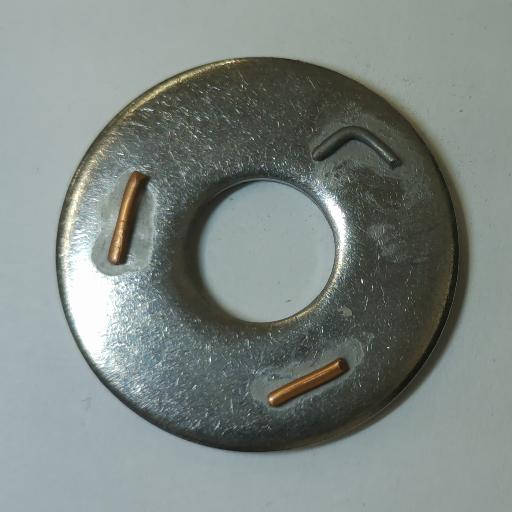excess_material: (268, 358, 349, 406), (311, 126, 401, 169), (107, 171, 147, 265)
